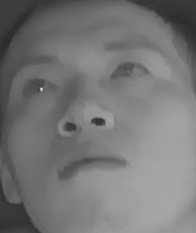eye: (104, 55, 153, 88), (19, 72, 61, 102)
mouth: (54, 144, 131, 185)
